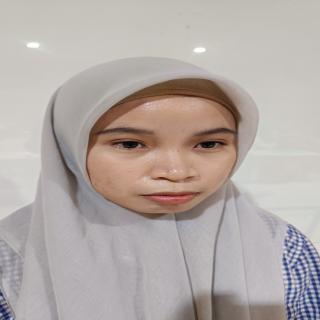Netral: (83, 82, 246, 224)
